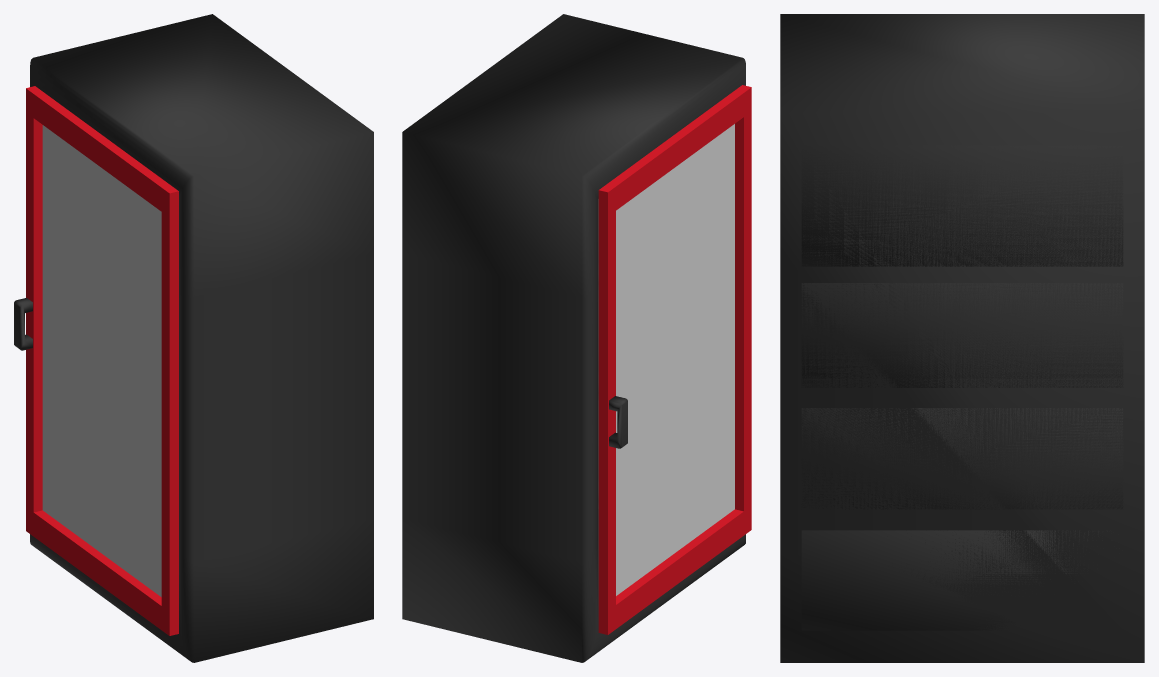
File: frigo01Rouge.fbx
The picture shows the model from 3 angles, left to right: view 1: azimuth 30°, elevation 25°; view 2: azimuth 150°, elevation 25°; view 3: azimuth 270°, elevation 25°; orthographic projection. The views are drawn at different scales.
Parts seen in each view (by area): view 1: armoire, Porte, Poignée; view 2: armoire, Porte, Poignée; view 3: armoire.
Boxes of the visible parts, left/top/right/bottom form: armoire: left=30, top=14, right=373, bottom=662; Porte: left=26, top=86, right=178, bottom=635; Poignée: left=14, top=298, right=32, bottom=350; armoire: left=402, top=14, right=745, bottom=662; Porte: left=598, top=85, right=751, bottom=634; Poignée: left=609, top=396, right=627, bottom=448; armoire: left=780, top=14, right=1144, bottom=662.
Size of the model in its own units: 449 by 1000 by 600.
